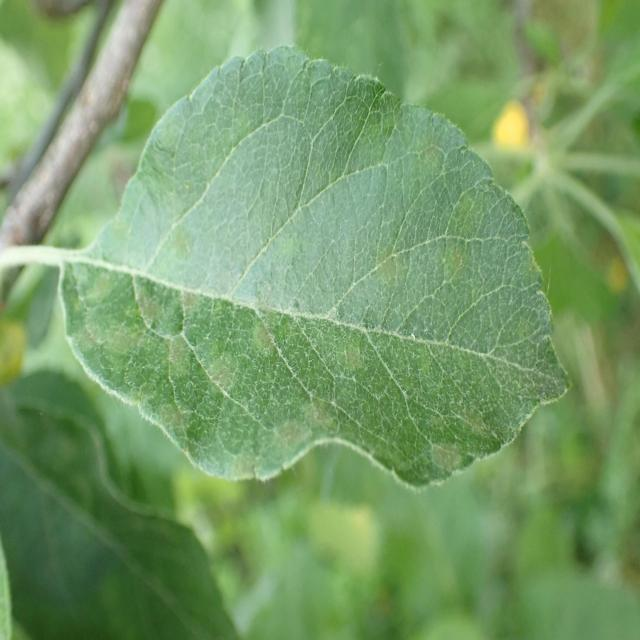scab: (70, 108, 568, 485)
